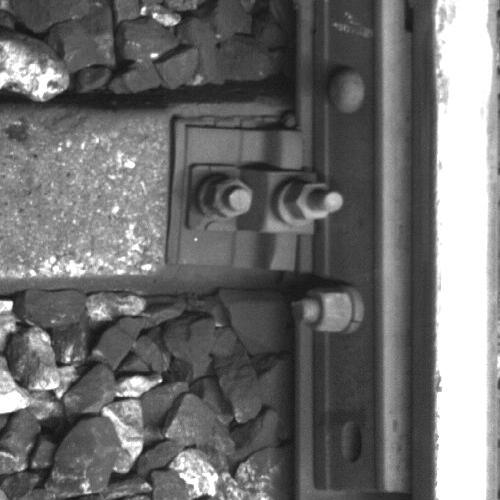fp_end: (314, 480, 412, 500)
kb: (182, 127, 344, 270)
nut: (286, 178, 344, 223), (207, 175, 255, 219)
rail: (433, 1, 498, 500)
tie_concr: (1, 106, 306, 277)
